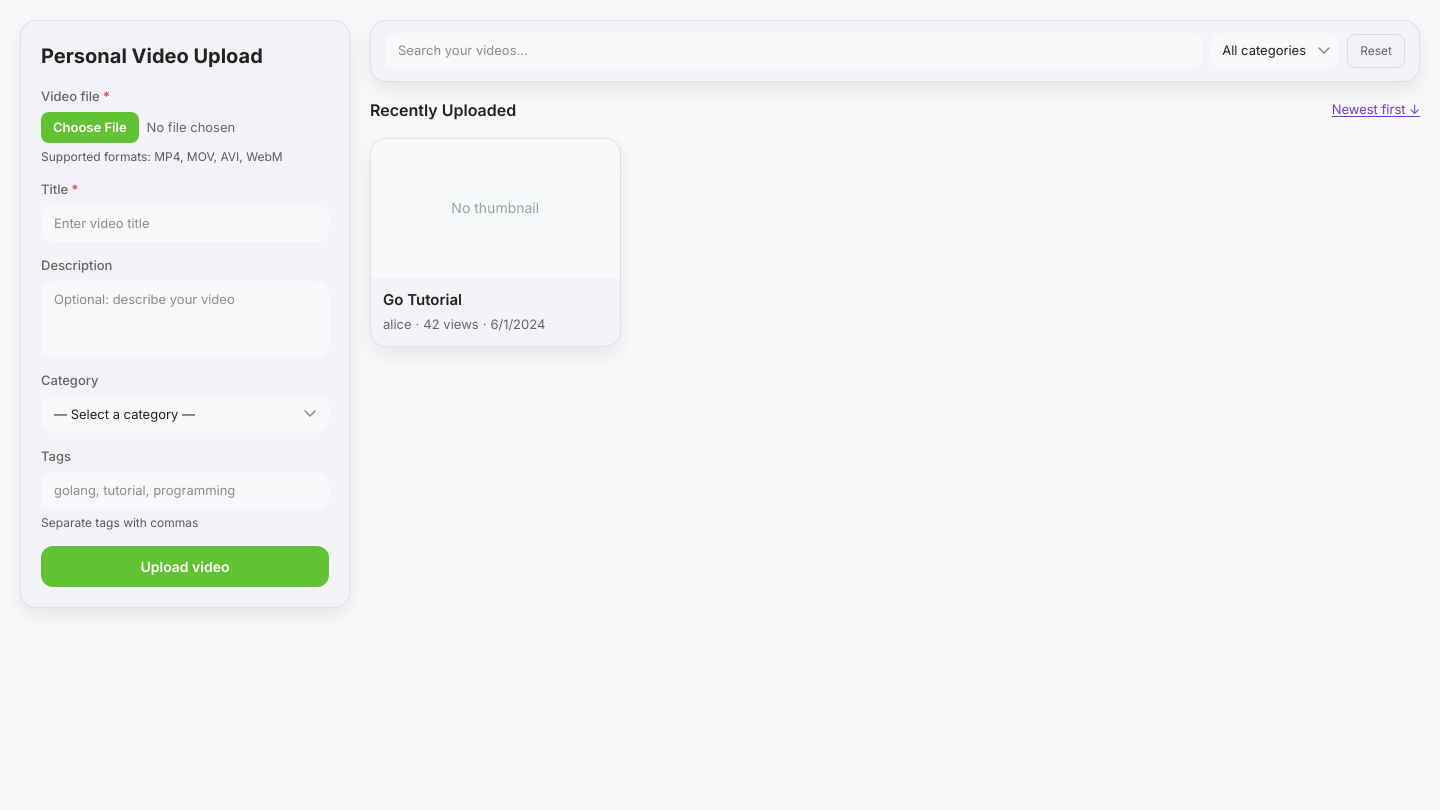
Test: UploadPage › resets search and category filter when Reset button is clicked
The image size is (1440, 810).
Expected: the link "Go Tutorial" is shown, x1=383 y1=290 x2=462 y2=309
Apply filters
In the search field named "search videos": (794, 51) x1=385 y1=33 x2=1203 y2=68, type "React"
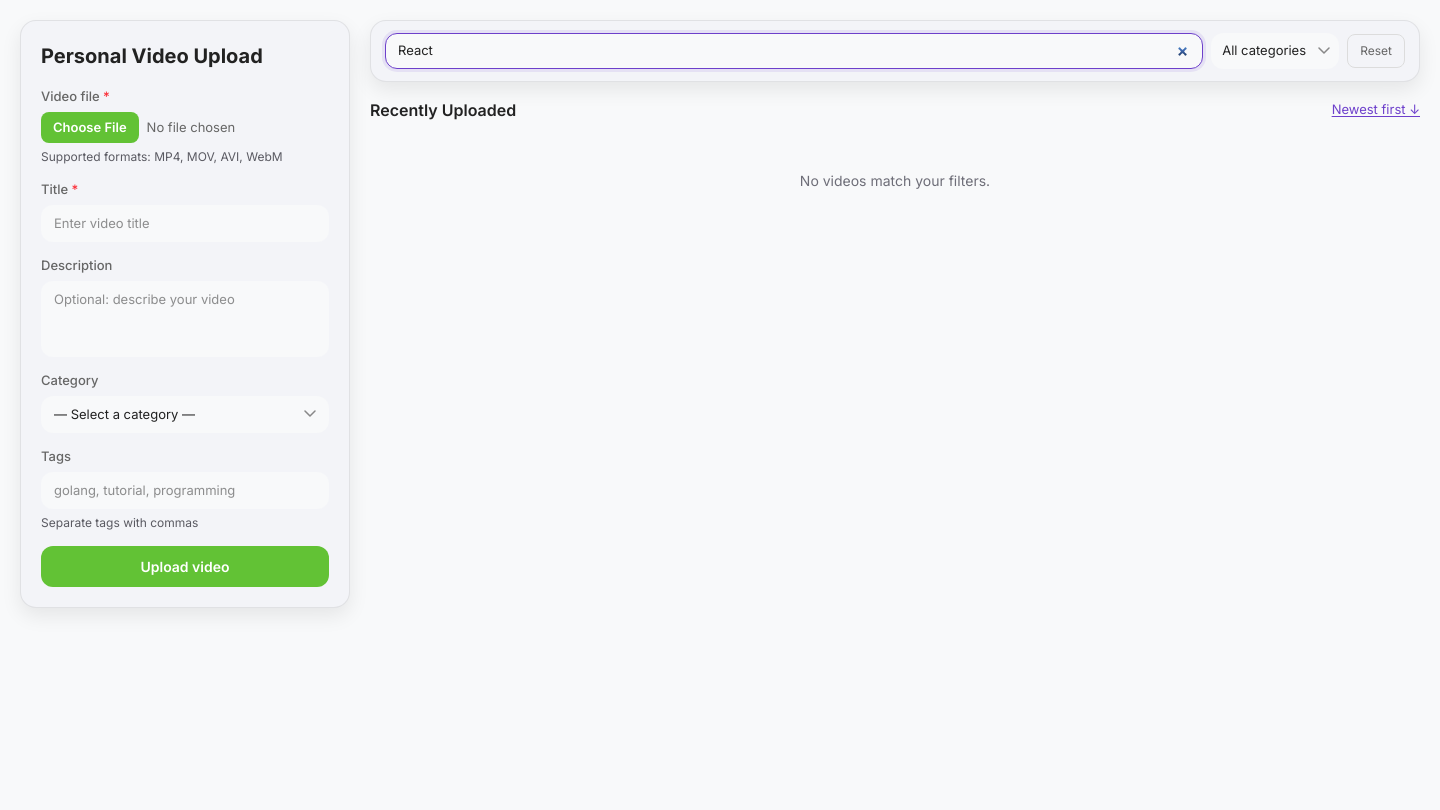
Result: the text "No videos match your filters." is shown at x1=800 y1=172 x2=990 y2=188
Click the button "Reset": (1376, 51) x1=1347 y1=34 x2=1405 y2=68
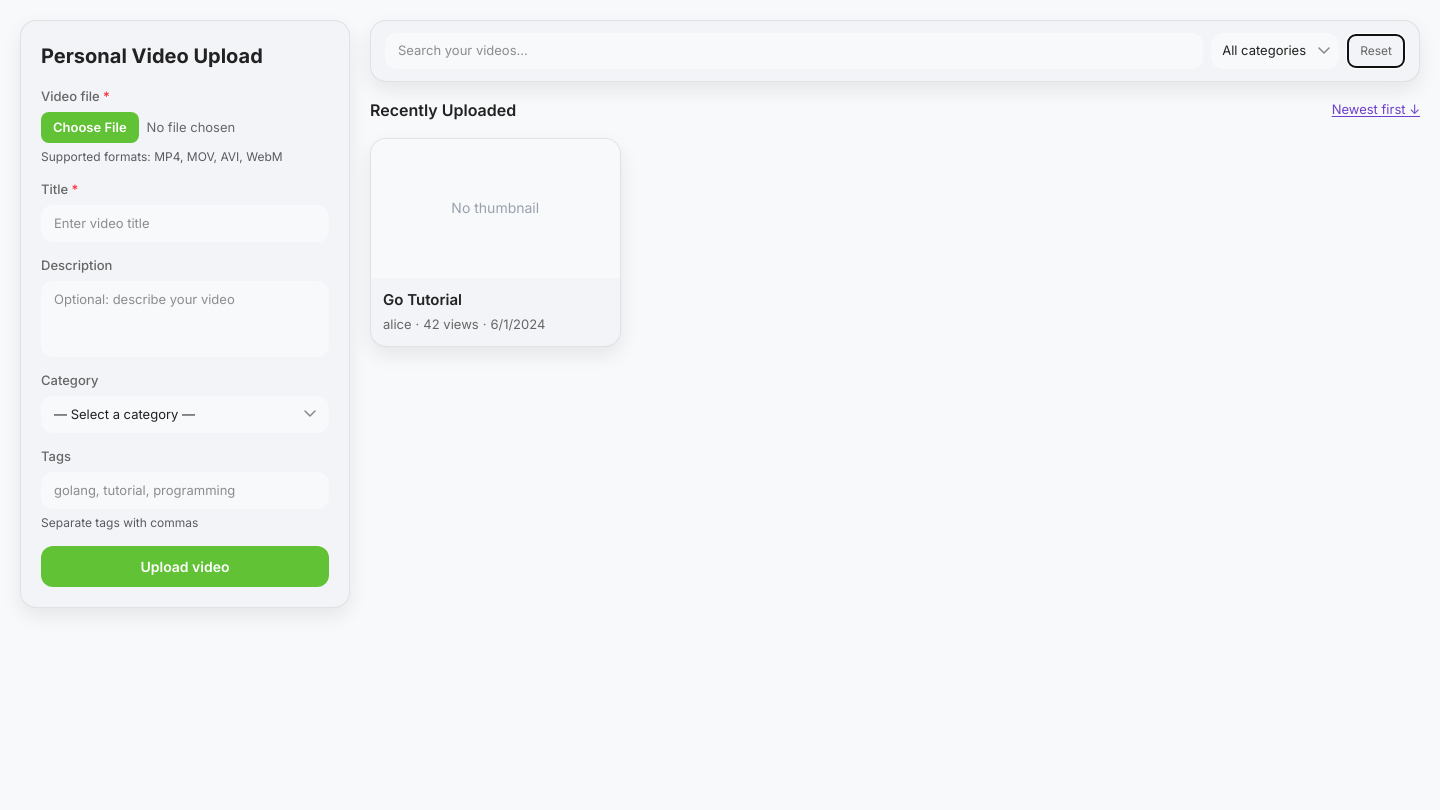
Result: the link "Go Tutorial" is shown at x1=383 y1=290 x2=462 y2=309
Result: the search field named "search videos" is empty at x1=385 y1=33 x2=1203 y2=68
